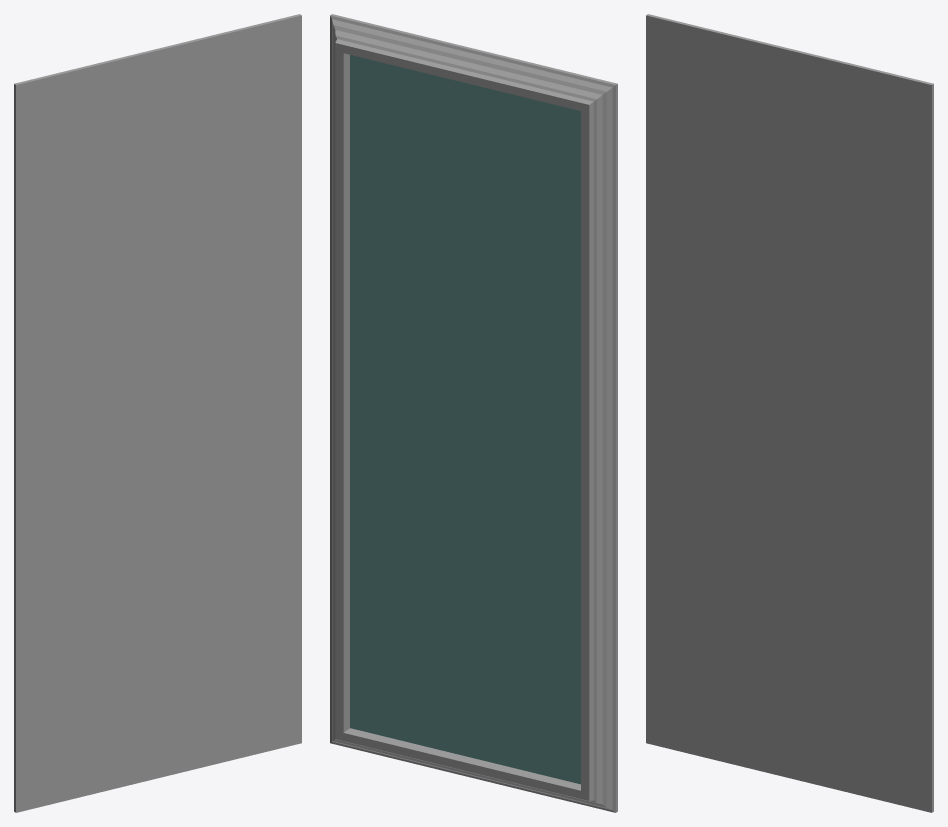
Rendered from MirrorNew.fbx.
The picture shows the model from 3 angles, left to right: view 1: azimuth 30°, elevation 25°; view 2: azimuth 150°, elevation 25°; view 3: azimuth 330°, elevation 25°; orthographic projection.
Parts seen in each view (by area): view 1: Mirror1; view 2: Mirror1; view 3: Mirror1.
Boxes of the visible parts, x1,y1,x2,y2 form: Mirror1: (14, 14, 301, 812); Mirror1: (330, 14, 617, 812); Mirror1: (646, 14, 933, 812).
Size of the model in its own units: 48.35 by 118 by 3.7.
